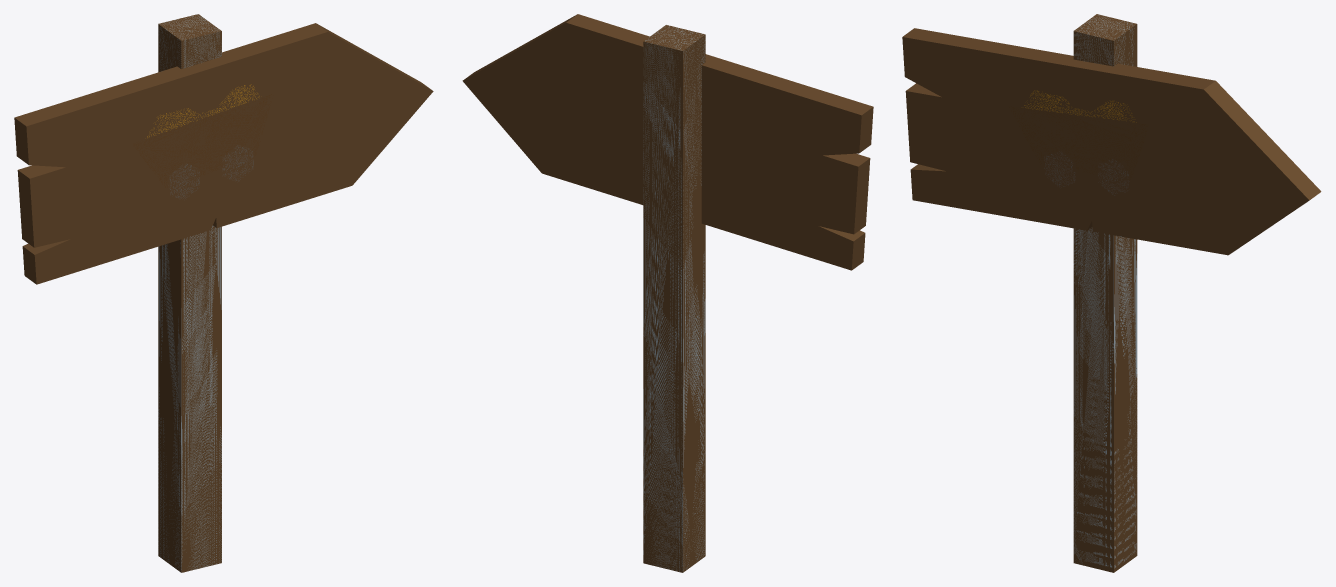
The model's file is Sign_Timber_Mine_01.fbx.
3 views of the same model, side by side, from view 1: azimuth 30°, elevation 25°; view 2: azimuth 150°, elevation 25°; view 3: azimuth 330°, elevation 25° (orthographic).
Parts seen in each view (by area): view 1: Model, Group1; view 2: Model, Group1; view 3: Model, Group1.
Part boxes in pixels (x1,y1,x2,y2): Model: (14, 23, 433, 284); Group1: (158, 14, 221, 572); Model: (462, 14, 873, 270); Group1: (643, 25, 705, 572); Model: (902, 28, 1321, 255); Group1: (1073, 14, 1137, 572).
Bounding box in the file's own units: 179 × 224 × 23.94.
